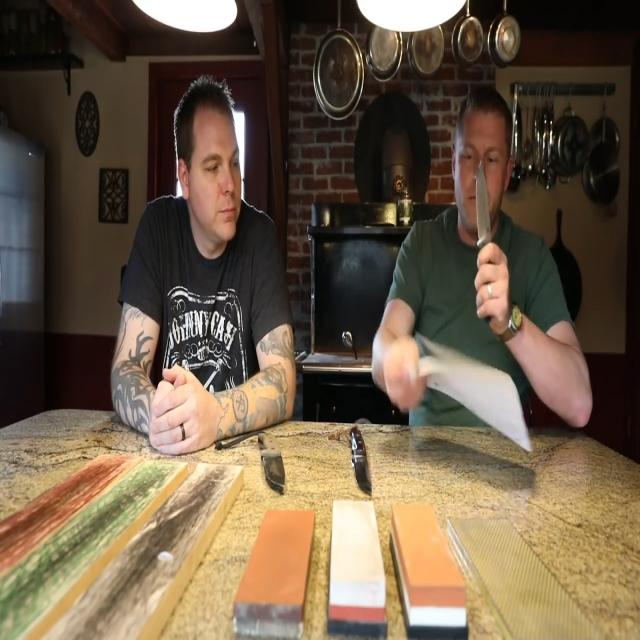knife: (258, 432, 289, 503), (473, 158, 494, 251), (349, 426, 375, 499)
